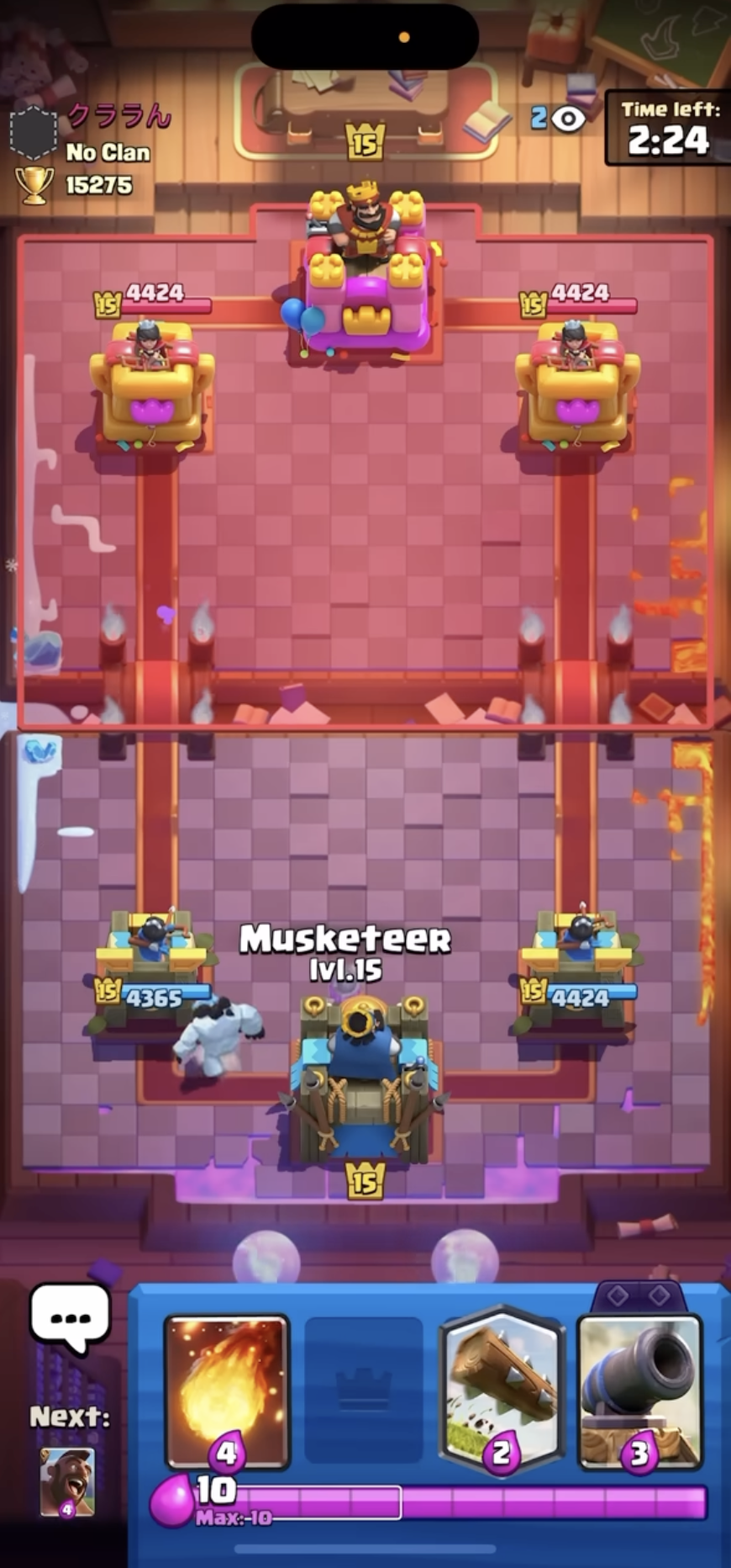ice_golem: (171, 988, 271, 1091)
